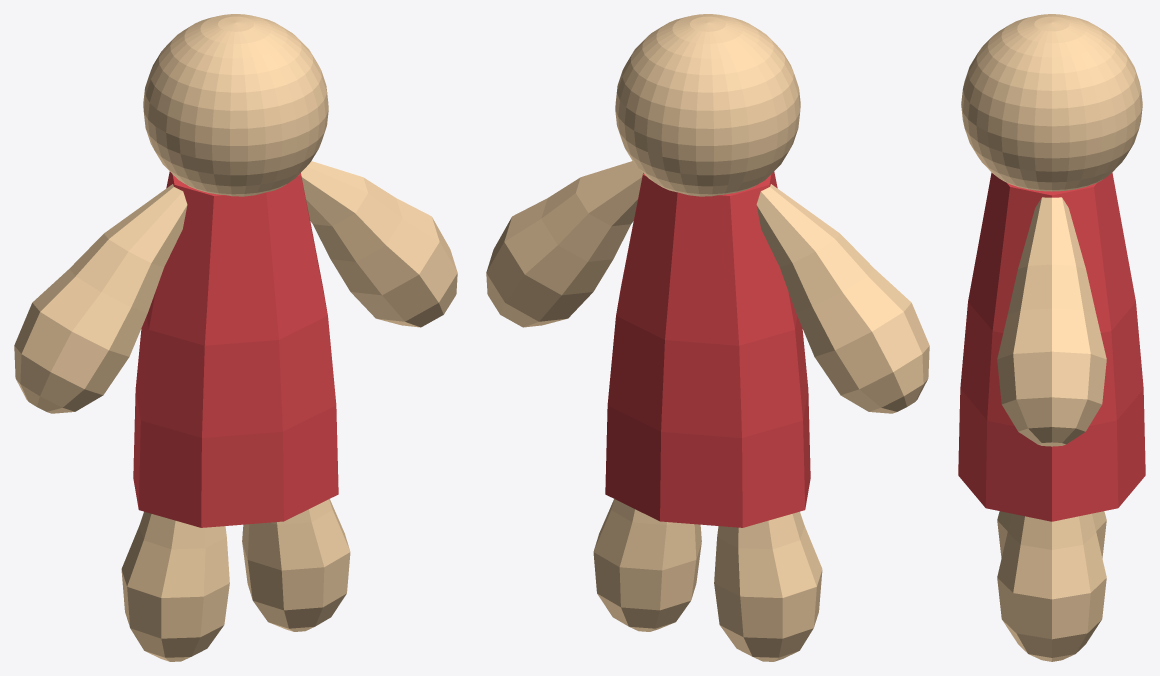
File: low_poly_doll.fbx
3 renders of one model, left to right at view 1: azimuth 30°, elevation 25°; view 2: azimuth 150°, elevation 25°; view 3: azimuth 270°, elevation 25°, orthographic. The views are drawn at different scales.
Parts seen in each view (by area): view 1: Cube, Sphere, Cube.002, Cube.001, Cube.004, Cube.003; view 2: Cube, Sphere, Cube.002, Cube.001, Cube.004, Cube.003; view 3: Cube, Sphere, Cube.001, Cube.003, Cube.004.
Part boxes in pixels (bbox=[...]): Cube: bbox=[133, 171, 338, 527]; Sphere: bbox=[143, 14, 328, 196]; Cube.002: bbox=[14, 184, 187, 413]; Cube.001: bbox=[301, 161, 457, 327]; Cube.004: bbox=[121, 511, 229, 661]; Cube.003: bbox=[242, 499, 350, 631]; Cube: bbox=[605, 171, 810, 527]; Sphere: bbox=[615, 14, 800, 196]; Cube.002: bbox=[756, 184, 929, 413]; Cube.001: bbox=[486, 161, 642, 327]; Cube.004: bbox=[714, 511, 822, 661]; Cube.003: bbox=[593, 499, 701, 631]; Cube: bbox=[958, 172, 1145, 521]; Sphere: bbox=[961, 14, 1142, 191]; Cube.001: bbox=[997, 197, 1106, 446]; Cube.003: bbox=[997, 513, 1106, 661]; Cube.004: bbox=[997, 511, 1106, 558].
Size of the model in its own units: 535 by 734 by 206.
